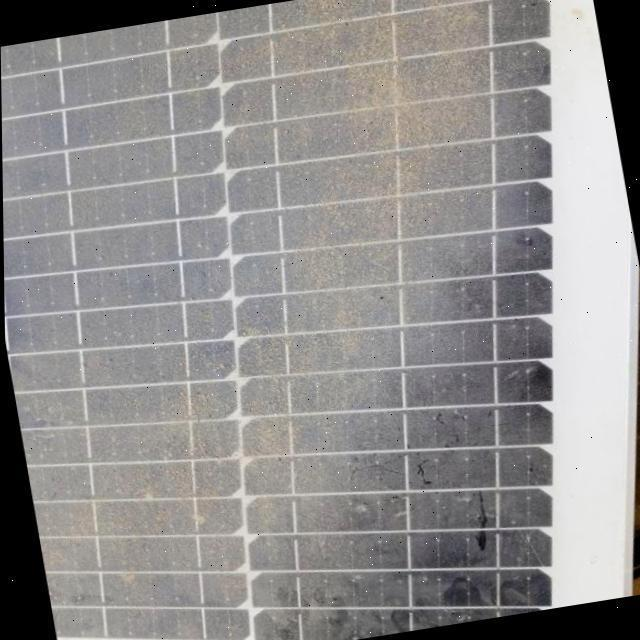Surface Contaminant: (1, 0, 585, 640)
